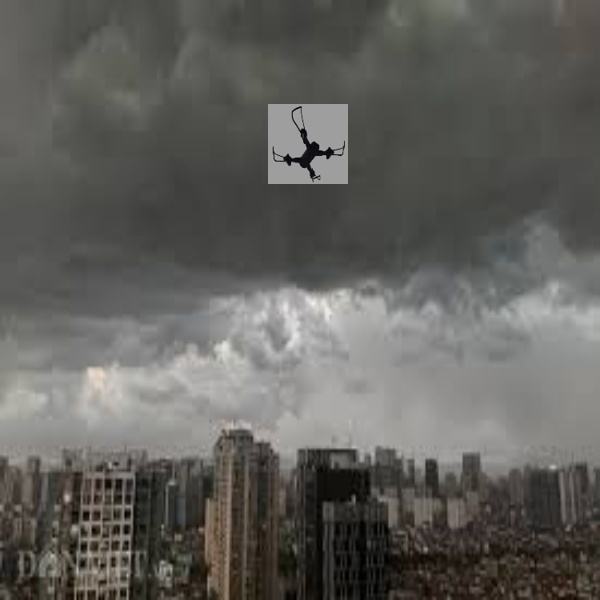drone: (270, 104, 353, 182)
